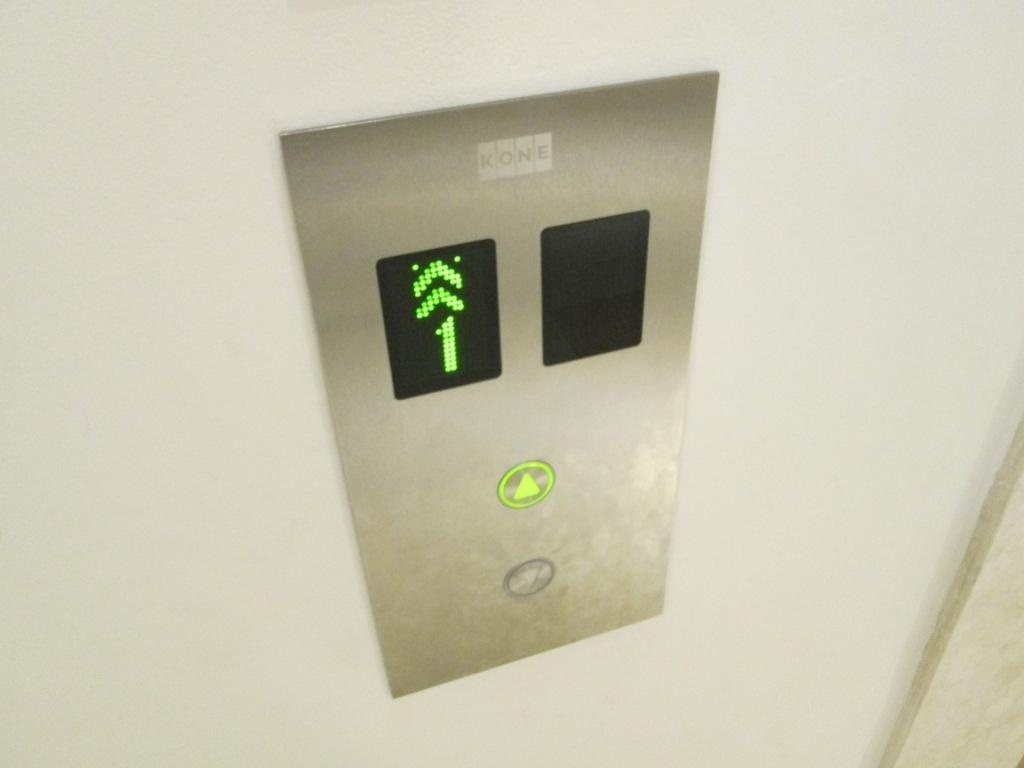down: (502, 557, 556, 602)
led: (374, 232, 507, 405), (537, 204, 653, 370)
up: (496, 459, 556, 513)
